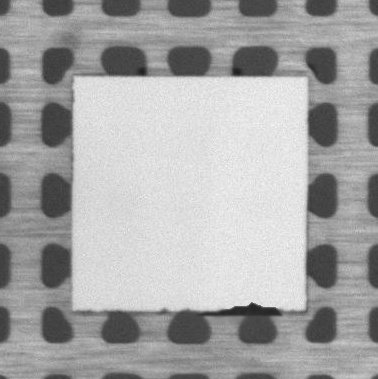DIE_BROKEN: (202, 300, 284, 320)
